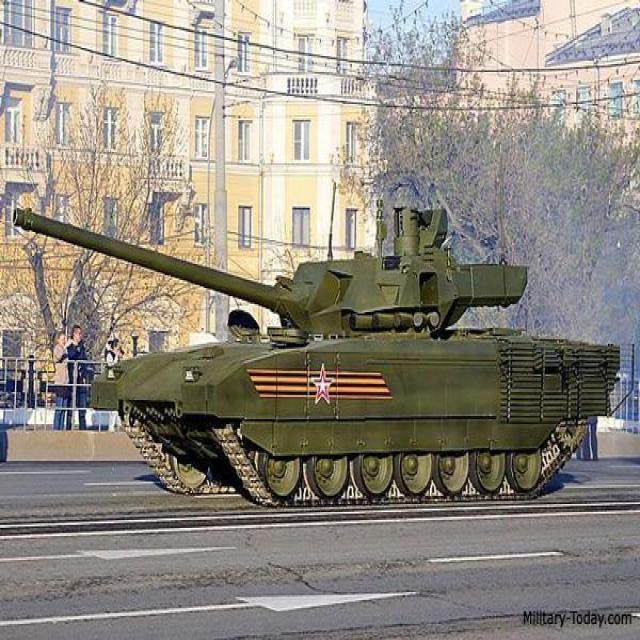Tanks: (11, 165, 627, 501)
